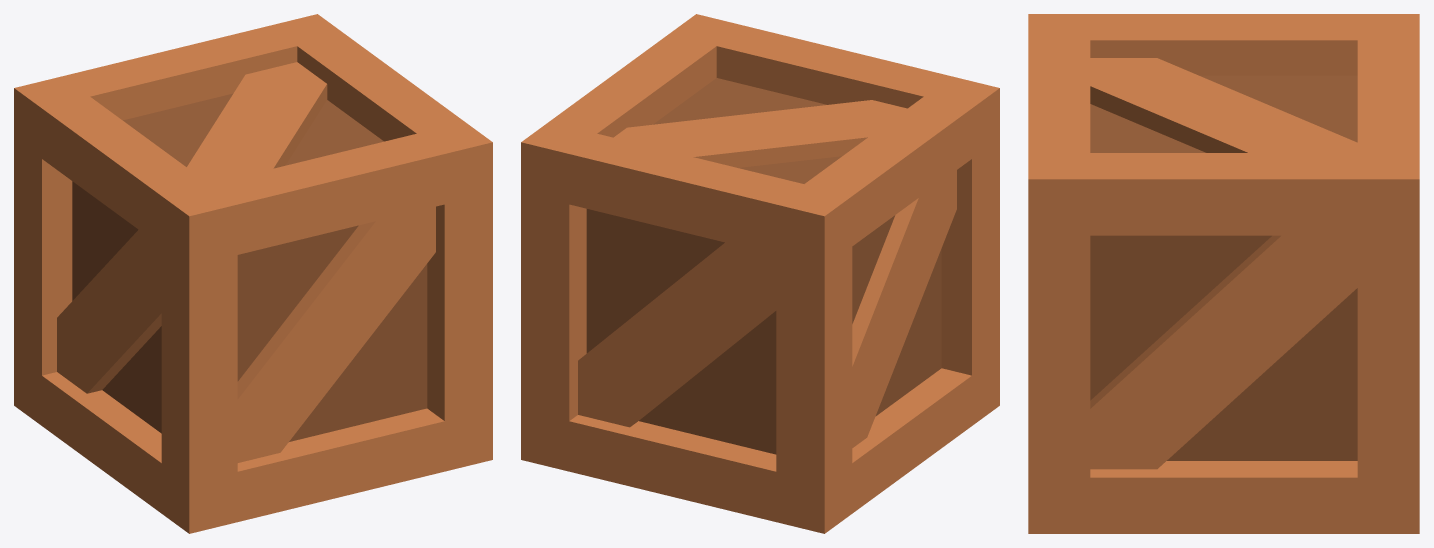
Rendered from d_kenney_caisse_claire.glb.
3 views of the same model, side by side, from view 1: azimuth 30°, elevation 25°; view 2: azimuth 150°, elevation 25°; view 3: azimuth 270°, elevation 25° (orthographic). The views are drawn at different scales.
Visible parts, largest first — view 1: d_kenney_caisse_claire; view 2: d_kenney_caisse_claire; view 3: d_kenney_caisse_claire.
Boxes of the visible parts, x1,y1,x2,y2 form: d_kenney_caisse_claire: [14, 14, 492, 533]; d_kenney_caisse_claire: [521, 14, 999, 533]; d_kenney_caisse_claire: [1028, 14, 1419, 533].
Size of the model in its own units: 0.5 by 0.5 by 0.5.
Materials: 1 (1 with a texture image).
